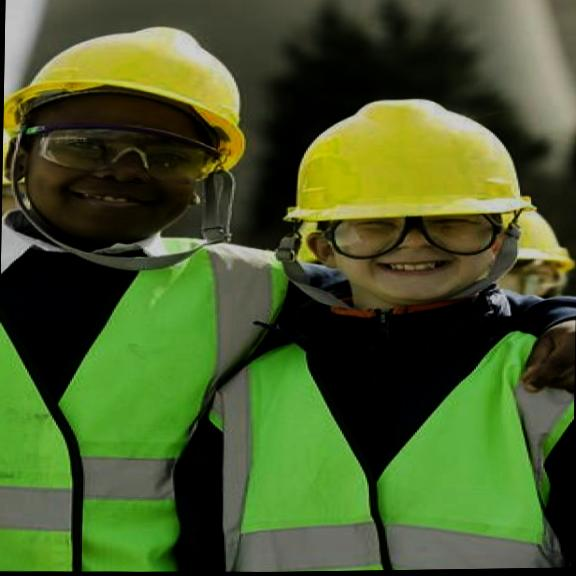safety_vest: (0, 228, 292, 576), (205, 316, 575, 573)
